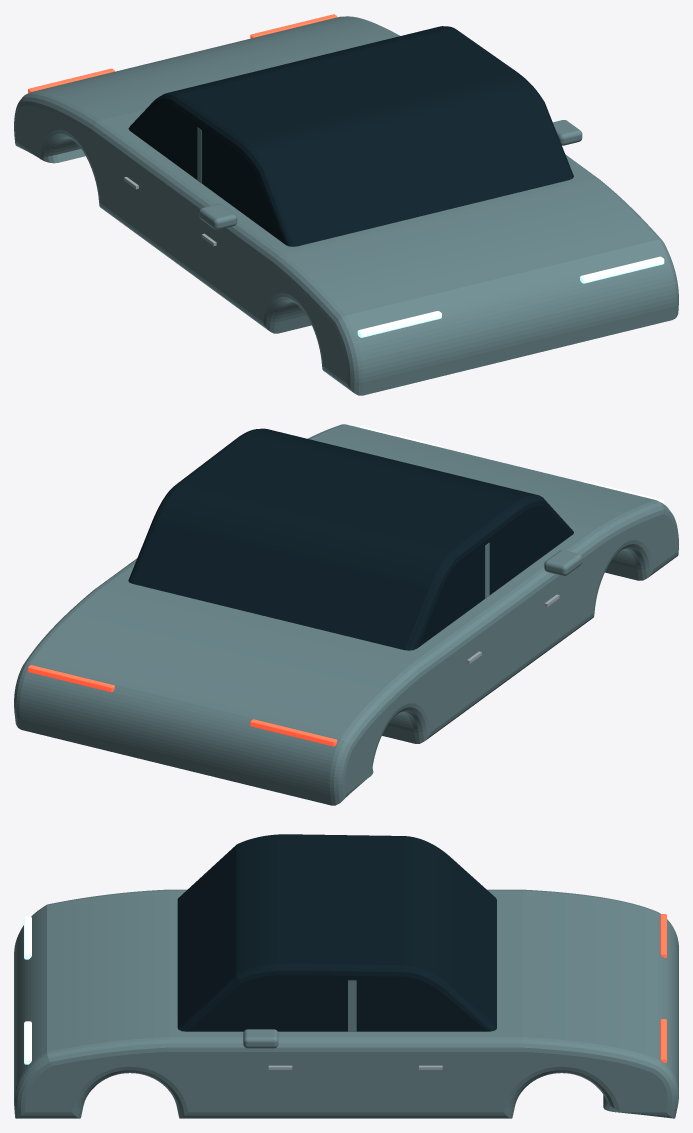
File: car-body.glb
3 views of the same model, one above another, from view 1: azimuth 30°, elevation 25°; view 2: azimuth 150°, elevation 25°; view 3: azimuth 270°, elevation 25° (orthographic). The views are drawn at different scales.
Parts seen in each view (by area): view 1: Barak_car-body; view 2: Barak_car-body; view 3: Barak_car-body.
Boxes of the visible parts, bbox=[...] form: Barak_car-body: bbox=[14, 14, 678, 395]; Barak_car-body: bbox=[14, 424, 678, 805]; Barak_car-body: bbox=[14, 834, 678, 1118].
Size of the model in its own units: 6.3 by 2.45 by 10.17.
